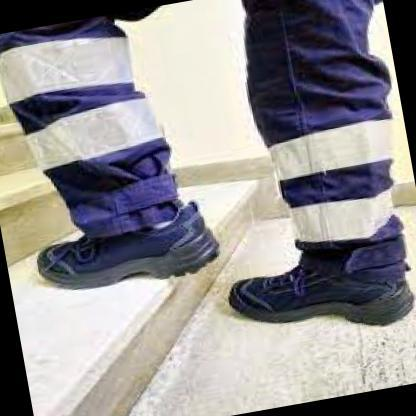safety-shoe: (206, 223, 415, 366), (27, 195, 237, 305)
